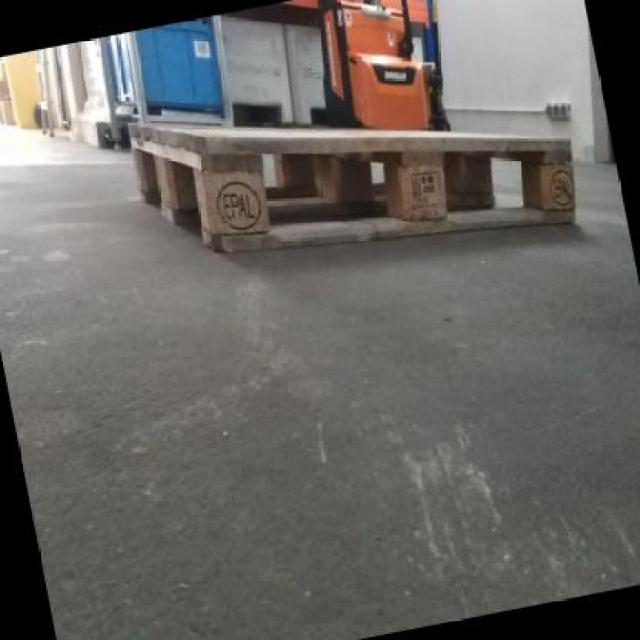block: (201, 140, 274, 248), (398, 139, 452, 232), (531, 137, 581, 217), (314, 151, 372, 212), (153, 138, 182, 224)
front: (199, 134, 591, 252)
